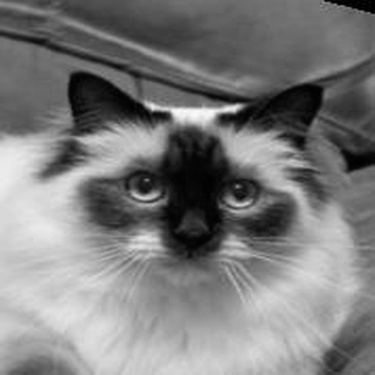cat: (3, 67, 363, 369)
